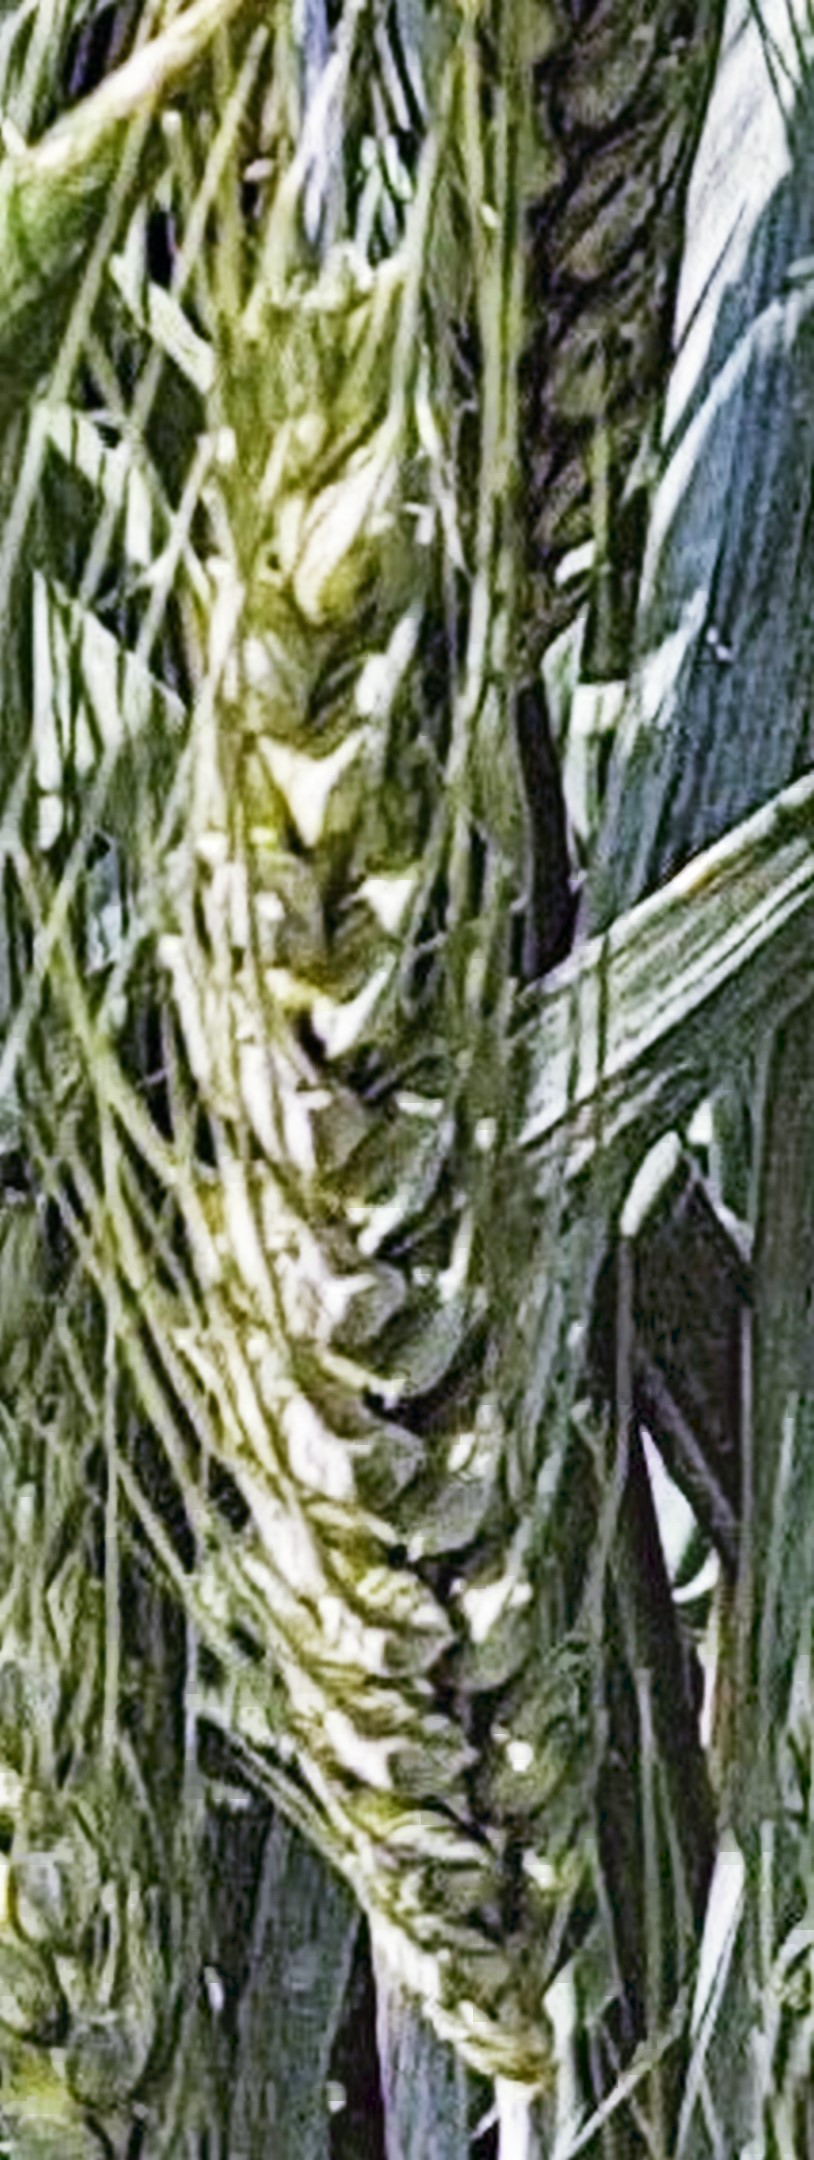Healthy Wheat: (150, 371, 685, 2033)
